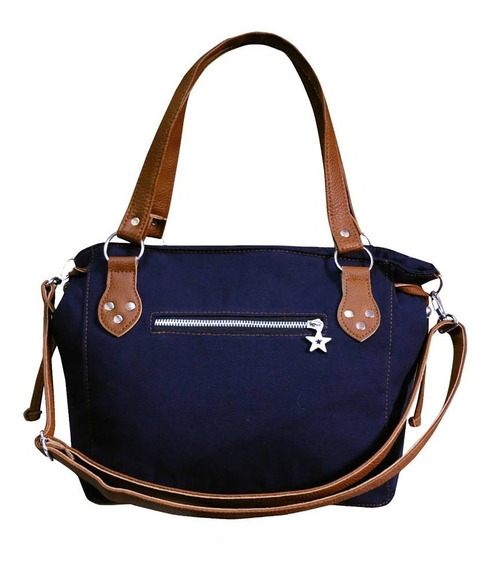cartera: (23, 30, 466, 517)
